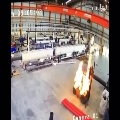fire: (74, 52, 91, 97)
